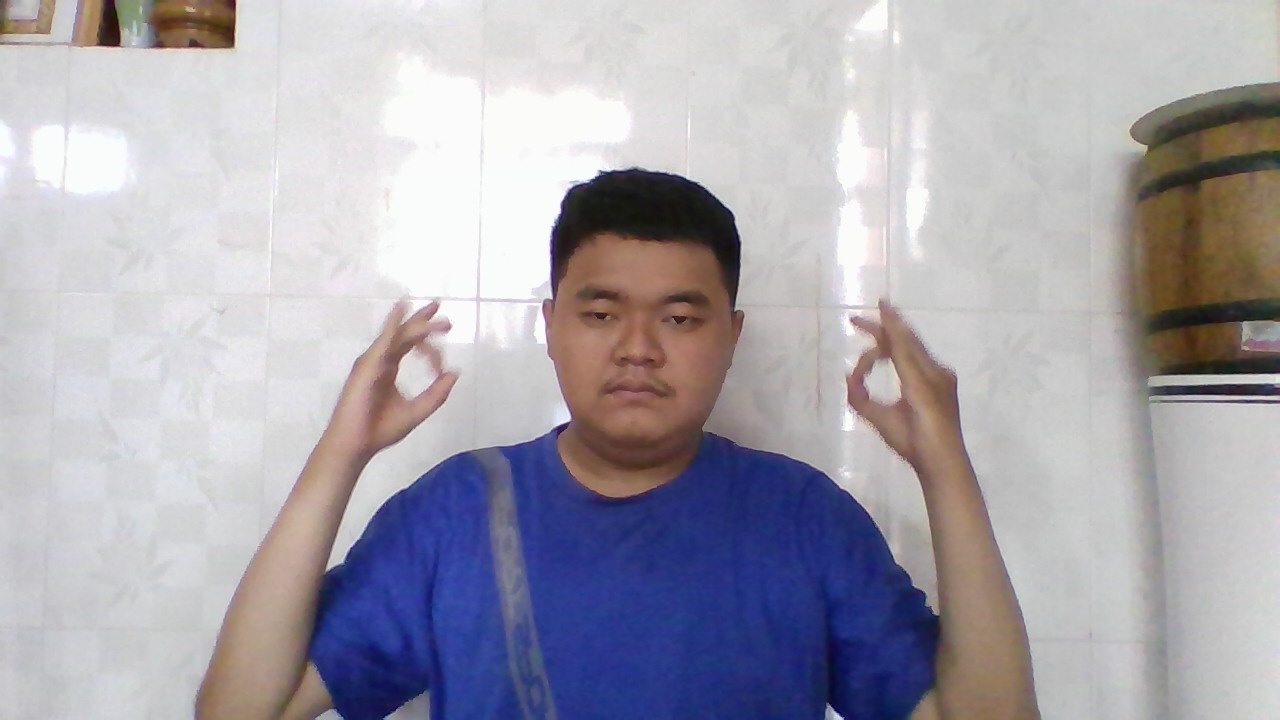H: (833, 289, 960, 489), (337, 285, 469, 465)
